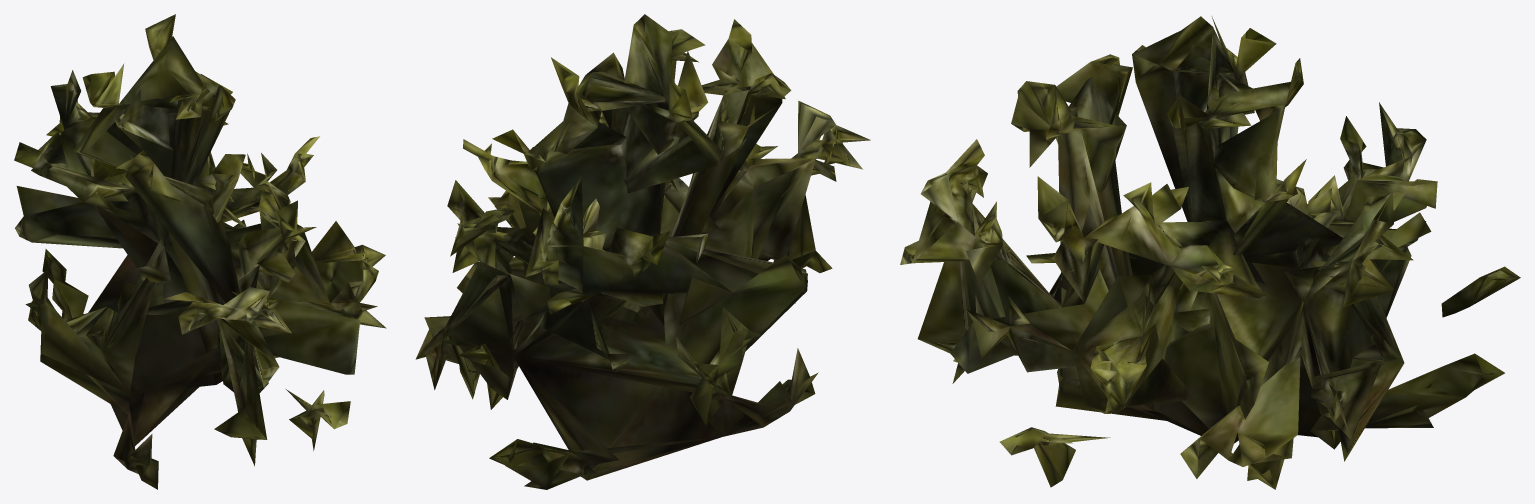
File: ul_bush.glb
3 renders of one model, left to right at view 1: azimuth 30°, elevation 25°; view 2: azimuth 150°, elevation 25°; view 3: azimuth 270°, elevation 25°, orthographic. The views are drawn at different scales.
Parts seen in each view (by area): view 1: tripo_node_24afc087-3a2b-49aa-b10b-224c4f1364d9; view 2: tripo_node_24afc087-3a2b-49aa-b10b-224c4f1364d9; view 3: tripo_node_24afc087-3a2b-49aa-b10b-224c4f1364d9.
Part boxes in pixels (left/top/right/bottom): tripo_node_24afc087-3a2b-49aa-b10b-224c4f1364d9: left=14, top=14, right=386, bottom=489; tripo_node_24afc087-3a2b-49aa-b10b-224c4f1364d9: left=415, top=14, right=870, bottom=489; tripo_node_24afc087-3a2b-49aa-b10b-224c4f1364d9: left=900, top=16, right=1520, bottom=489.
Size of the model in its own units: 0.5774 by 0.6985 by 0.9016.
Materials: 1 (1 with a texture image).
